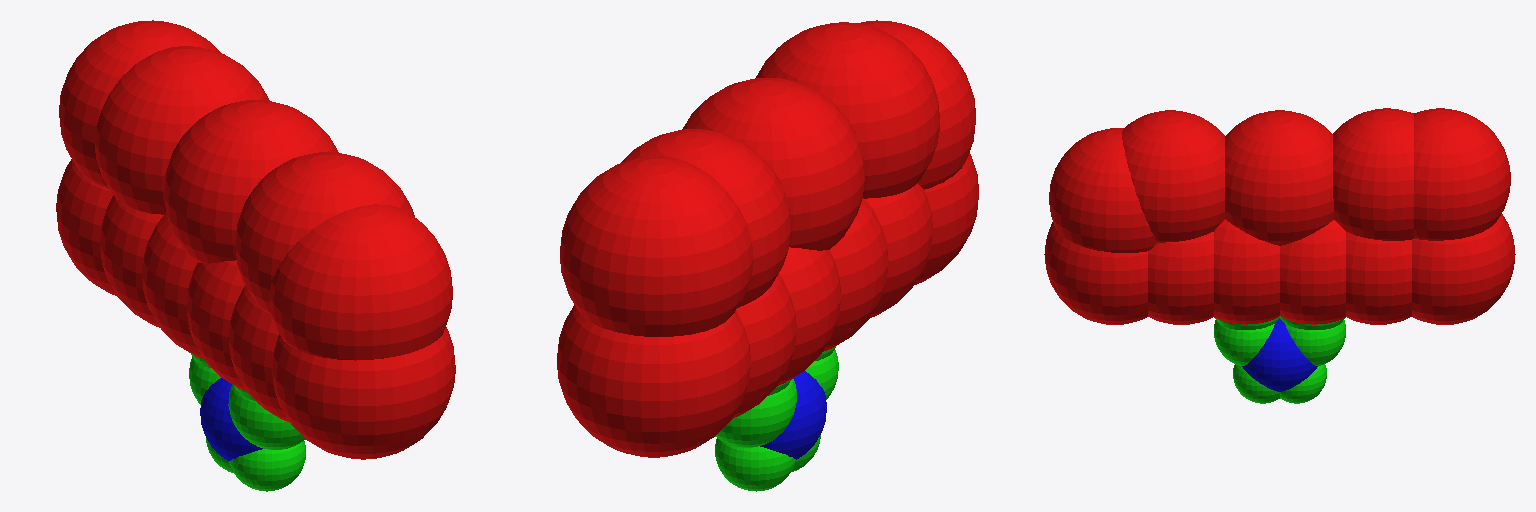
URDF robot description (pxyz_rz):
<?xml version="1.0" encoding="utf-8"?>
<!-- =================================================================================== -->
<!-- |    This document was autogenerated by xacro from hand_prismatic_xyz_revolute_z.urdf.xacro | -->
<!-- |    EDITING THIS FILE BY HAND IS NOT RECOMMENDED                                 | -->
<!-- =================================================================================== -->
<robot name="pxyz_rz">
  <material name="redtran">
    <color rgba=".9 .1 .1 0.3"/>
  </material>
  <material name="greentran">
    <color rgba=".1 .9 .1 0.3"/>
  </material>
  <material name="bluetran">
    <color rgba=".1 .1 .9 0.3"/>
  </material>
  <link name="pxyz_rz_base_link"/>
  <link name="pxyz_rz_prismatic_x_link"/>
  <link name="pxyz_rz_prismatic_y_link"/>
  <link name="pxyz_rz_prismatic_z_link"/>
  <link name="pxyz_rz_revolute_z_link"/>
  <joint name="pxyz_rz_prismatic_x_joint" type="prismatic">
    <parent link="pxyz_rz_base_link"/>
    <child link="pxyz_rz_prismatic_x_link"/>
    <origin rpy="0 0 0" xyz="0 0 0"/>
    <axis xyz="1 0 0"/>
  </joint>
  <joint name="pxyz_rz_prismatic_y_joint" type="prismatic">
    <parent link="pxyz_rz_prismatic_x_link"/>
    <child link="pxyz_rz_prismatic_y_link"/>
    <origin rpy="0 0 0" xyz="0 0 0"/>
    <axis xyz="0 1 0"/>
  </joint>
  <joint name="pxyz_rz_prismatic_z_joint" type="prismatic">
    <parent link="pxyz_rz_prismatic_y_link"/>
    <child link="pxyz_rz_prismatic_z_link"/>
    <origin rpy="0 0 0" xyz="0 0 0"/>
    <axis xyz="0 0 1"/>
  </joint>
  <joint name="pxyz_rz_revolute_z_joint" type="revolute">
    <parent link="pxyz_rz_prismatic_z_link"/>
    <child link="pxyz_rz_revolute_z_link"/>
    <origin rpy="0 0 0" xyz="0 0 0"/>
    <axis xyz="0 0 -1"/>
  </joint>
  <joint name="panda_hand_joint" type="fixed">
    <parent link="pxyz_rz_revolute_z_link"/>
    <child link="panda_hand"/>
    <origin rpy="3.14159265359 0 0" xyz="0 0 0"/>
  </joint>
  <link name="panda_hand">
    <visual>
      <geometry>
        <mesh filename="package://franka_description/meshes/visual/hand.dae"/>
      </geometry>
    </visual>
    <visual>
      <origin xyz="0 -.077 .041"/>
      <geometry>
        <sphere radius="0.033"/>
      </geometry>
      <material name="redtran"/>
    </visual>
    <visual>
      <origin xyz="0 .075 .012"/>
      <geometry>
        <sphere radius="0.033"/>
      </geometry>
      <material name="redtran"/>
    </visual>
    <visual>
      <origin xyz="0 .077 .041"/>
      <geometry>
        <sphere radius="0.033"/>
      </geometry>
      <material name="redtran"/>
    </visual>
    <visual>
      <origin xyz="0 -.05 .002"/>
      <geometry>
        <sphere radius="0.033"/>
      </geometry>
      <material name="redtran"/>
    </visual>
    <visual>
      <origin xyz="0 -.046 .041"/>
      <geometry>
        <sphere radius="0.033"/>
      </geometry>
      <material name="redtran"/>
    </visual>
    <visual>
      <origin xyz="0 .046 .041"/>
      <geometry>
        <sphere radius="0.033"/>
      </geometry>
      <material name="redtran"/>
    </visual>
    <visual>
      <origin xyz="0 .016 .041"/>
      <geometry>
        <sphere radius="0.033"/>
      </geometry>
      <material name="redtran"/>
    </visual>
    <visual>
      <origin xyz="0 -.016 .041"/>
      <geometry>
        <sphere radius="0.033"/>
      </geometry>
      <material name="redtran"/>
    </visual>
    <visual>
      <origin xyz="0 -.075 .002"/>
      <geometry>
        <sphere radius="0.033"/>
      </geometry>
      <material name="redtran"/>
    </visual>
    <visual>
      <origin xyz="0 .051 .003"/>
      <geometry>
        <sphere radius="0.033"/>
      </geometry>
      <material name="redtran"/>
    </visual>
    <visual>
      <origin xyz="0 0 .003"/>
      <geometry>
        <sphere radius="0.033"/>
      </geometry>
      <material name="redtran"/>
    </visual>
  </link>
  <link name="panda_leftfinger">
    <visual>
      <geometry>
        <mesh filename="package://franka_description/meshes/visual/finger.dae"/>
      </geometry>
    </visual>
    <visual>
      <origin xyz="0 .014 .022"/>
      <geometry>
        <sphere radius="0.017"/>
      </geometry>
      <material name="greentran"/>
    </visual>
    <visual>
      <origin xyz="0 .015 .005"/>
      <geometry>
        <sphere radius="0.018"/>
      </geometry>
      <material name="greentran"/>
    </visual>
    <visual>
      <origin xyz="0 .008 .044"/>
      <geometry>
        <sphere radius="0.014"/>
      </geometry>
      <material name="greentran"/>
    </visual>
  </link>
  <link name="panda_rightfinger">
    <visual>
      <origin rpy="0 0 3.14159265359" xyz="0 0 0"/>
      <geometry>
        <mesh filename="package://franka_description/meshes/visual/finger.dae"/>
      </geometry>
    </visual>
    <visual>
      <origin xyz="0 -.014 .022"/>
      <geometry>
        <sphere radius="0.017"/>
      </geometry>
      <material name="greentran"/>
    </visual>
    <visual>
      <origin xyz="0 -.015 .005"/>
      <geometry>
        <sphere radius="0.018"/>
      </geometry>
      <material name="greentran"/>
    </visual>
    <visual>
      <origin xyz="0 -.008 .044"/>
      <geometry>
        <sphere radius="0.014"/>
      </geometry>
      <material name="greentran"/>
    </visual>
  </link>
  <link name="panda_hand_center">
    <visual>
      <origin xyz="0 0 0"/>
      <geometry>
        <sphere radius="0.02"/>
      </geometry>
      <material name="bluetran"/>
    </visual>
  </link>
  <joint name="panda_finger_joint1" type="prismatic">
    <parent link="panda_hand"/>
    <child link="panda_leftfinger"/>
    <origin rpy="0 0 0" xyz="0 0 0.0584"/>
    <axis xyz="0 1 0"/>
    <limit effort="20" lower="0.0" upper="0.04" velocity="0.2"/>
  </joint>
  <joint name="panda_finger_joint2" type="prismatic">
    <parent link="panda_hand"/>
    <child link="panda_rightfinger"/>
    <origin rpy="0 0 0" xyz="0 0 0.0584"/>
    <axis xyz="0 -1 0"/>
    <limit effort="20" lower="0.0" upper="0.04" velocity="0.2"/>
    <mimic joint="panda_finger_joint1"/>
  </joint>
  <joint name="panda_hand_center_joint" type="fixed">
    <parent link="panda_hand"/>
    <child link="panda_hand_center"/>
    <origin rpy="0 0 0" xyz="0 0 0.09"/>
  </joint>
</robot>

--- What the picture shows (computed from the rendered views, not written in the file) ---
Views: 3 orthographic renders of the robot side by side, from view 1: azimuth 30°, elevation 25°; view 2: azimuth 150°, elevation 25°; view 3: azimuth 270°, elevation 25°.
Robot: pxyz_rz — 9 links, 8 joints (1 revolute, 5 prismatic, 2 fixed); root link pxyz_rz_base_link; default pose: all joints at 0.
Visible links, largest first — view 1: panda_hand, panda_leftfinger, panda_hand_center, panda_rightfinger; view 2: panda_hand, panda_rightfinger, panda_hand_center, panda_leftfinger; view 3: panda_hand, panda_leftfinger, panda_rightfinger, panda_hand_center.
Boxes of the visible links, box(x1,y1,x2,y2) form: panda_hand: box(56, 20, 455, 459); panda_leftfinger: box(228, 384, 305, 491); panda_hand_center: box(200, 378, 262, 460); panda_rightfinger: box(189, 354, 233, 472); panda_hand: box(557, 20, 978, 457); panda_rightfinger: box(715, 379, 796, 491); panda_hand_center: box(760, 371, 826, 459); panda_leftfinger: box(791, 346, 838, 471); panda_hand: box(1044, 108, 1515, 324); panda_leftfinger: box(1214, 316, 1279, 403); panda_rightfinger: box(1280, 316, 1345, 403); panda_hand_center: box(1242, 319, 1317, 391).
Bounding box of the posed robot: 0.066 × 0.22 × 0.1474 m (x, y, z).
Meshes: 2 distinct files referenced, 0 mesh visuals loaded (none loaded); not drawn: 3 (reference not matched to a file when rendering).
